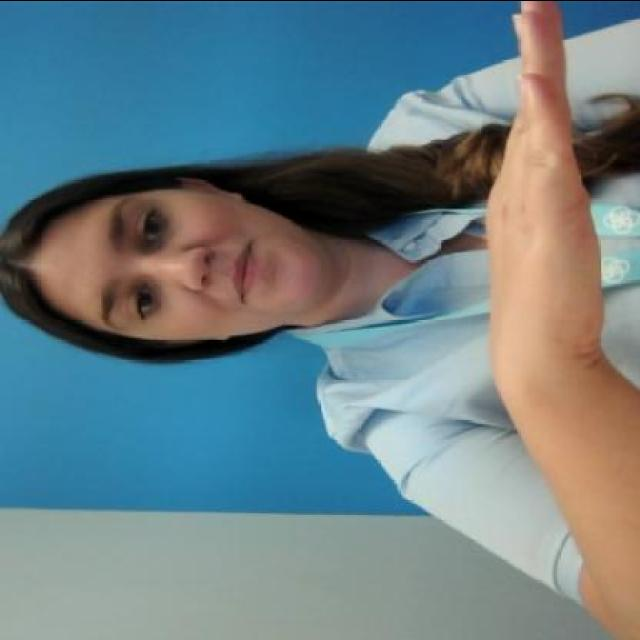Paper: (472, 0, 598, 373)
